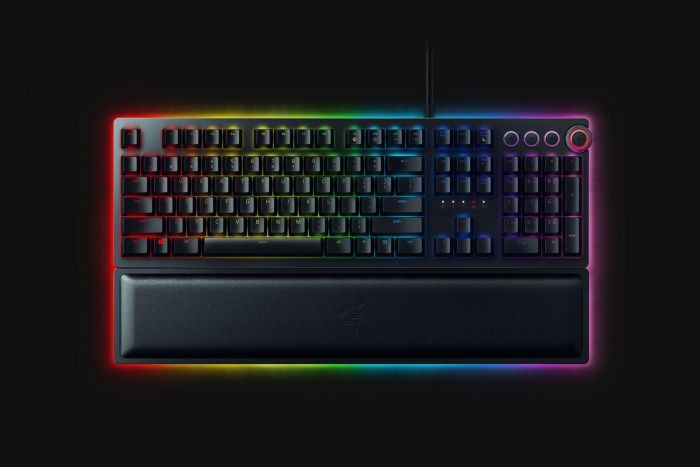keyboard: (107, 113, 594, 375)
